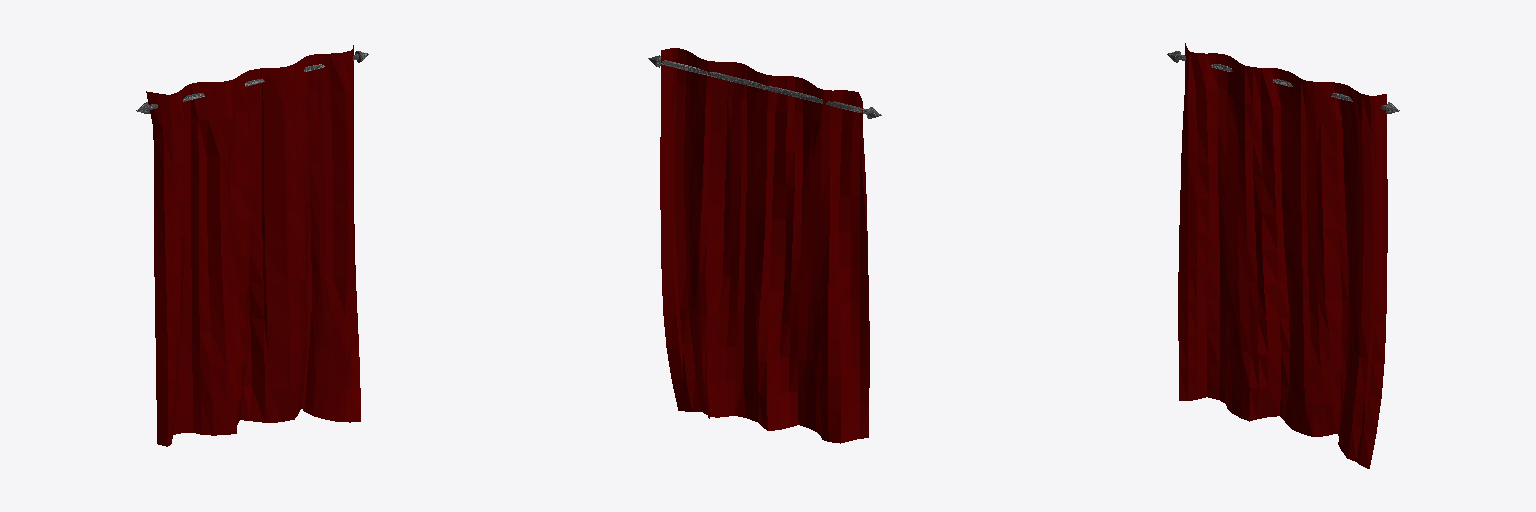
3 renders of one model, left to right at view 1: azimuth 30°, elevation 25°; view 2: azimuth 150°, elevation 25°; view 3: azimuth 330°, elevation 25°, orthographic.
Size of the model in its own units: 91.38 by 137 by 10.45.
Materials: 2 (1 with a texture image).